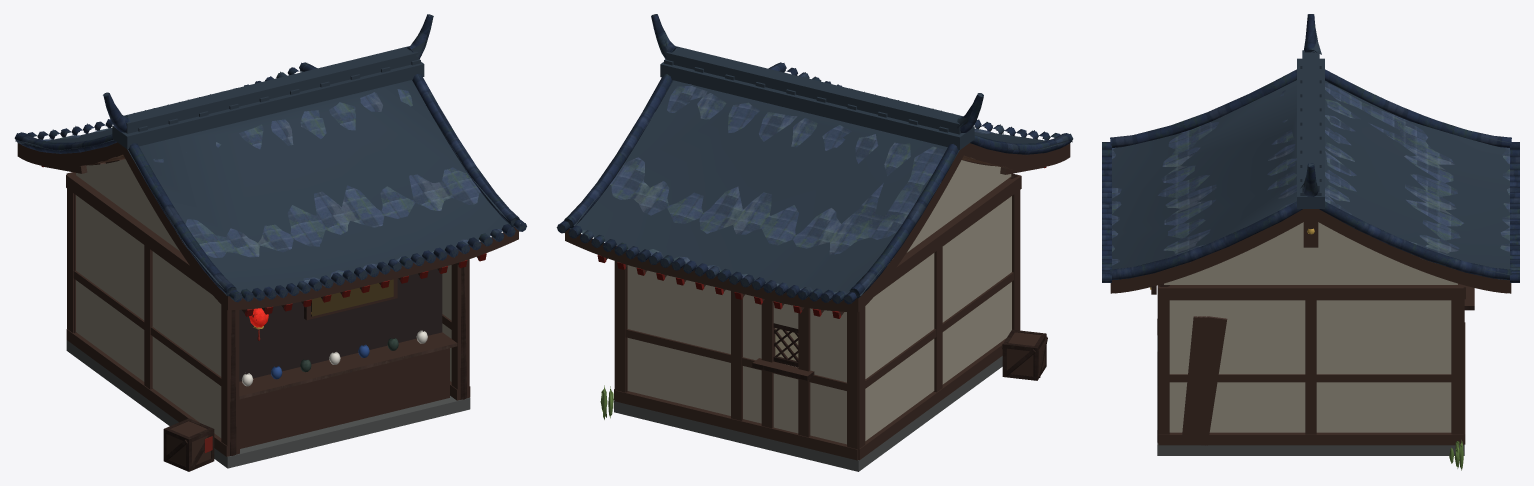
The model's file is prop_shop_small_a.gltf.
3 renders of one model, left to right at view 1: azimuth 30°, elevation 25°; view 2: azimuth 150°, elevation 25°; view 3: azimuth 270°, elevation 25°, orthographic. The views are drawn at different scales.
Visible parts, largest first — view 1: Far, Near; view 2: Far, Near; view 3: Far, Near.
Boxes of the visible parts, <box> form: Far: <box>15,14,526,468</box>; Near: <box>14,14,526,471</box>; Far: <box>556,14,1072,471</box>; Near: <box>557,14,1073,419</box>; Far: <box>1110,14,1511,455</box>; Near: <box>1102,14,1519,470</box>.
Bounding box in the file's own units: 5.44 × 5.32 × 6.26.
Materials: 20 (13 with a texture image).
